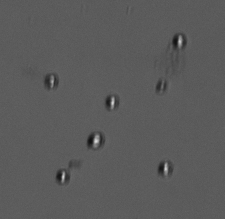Dead Cell: (154, 79, 171, 94)
Living Cell: (85, 131, 107, 150), (155, 160, 176, 177), (170, 30, 186, 49), (54, 168, 71, 185), (104, 94, 120, 110), (43, 73, 58, 89)
